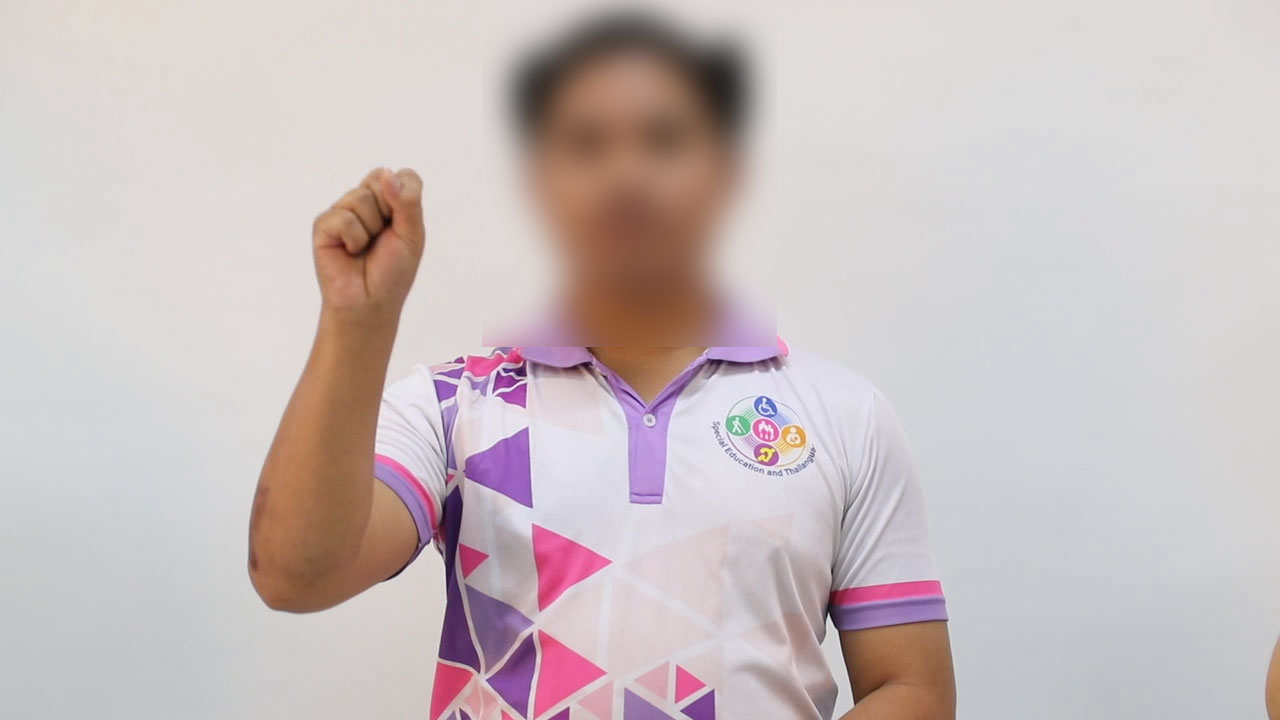sor: (299, 136, 436, 330)
